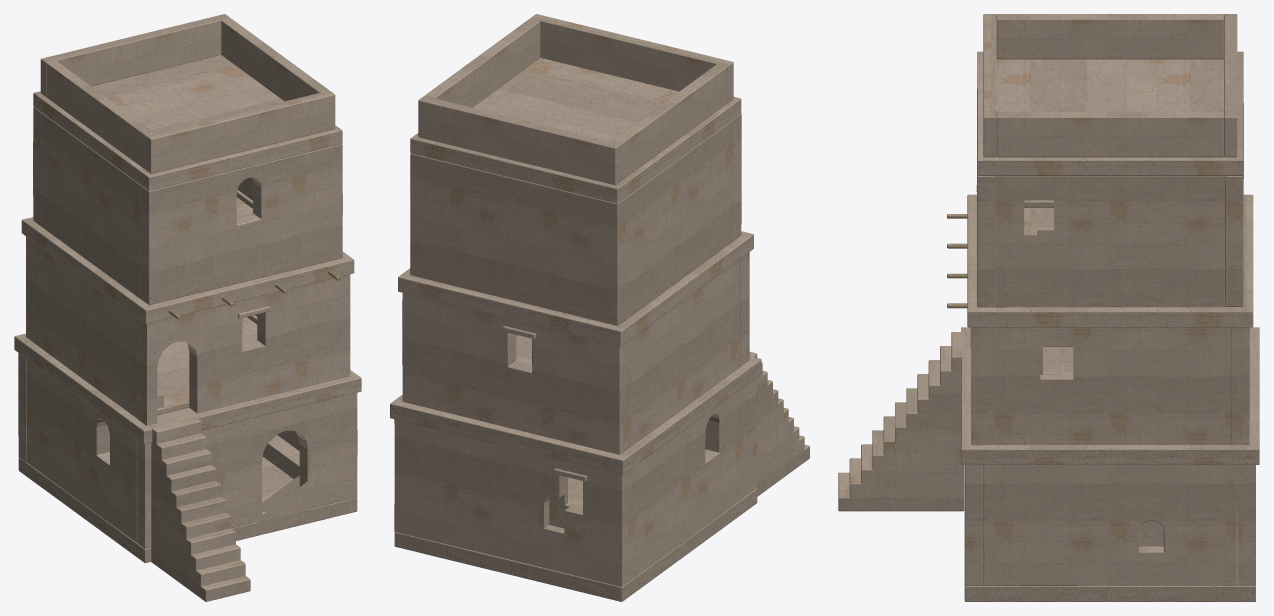
The model's file is tower_7.glb.
The picture shows the model from 3 angles, left to right: view 1: azimuth 30°, elevation 25°; view 2: azimuth 150°, elevation 25°; view 3: azimuth 270°, elevation 25°; orthographic projection. The views are drawn at different scales.
Parts seen in each view (by area): view 1: tower; view 2: tower; view 3: tower.
Part boxes in pixels (x1,y1,x2,y2): tower: (14,14,361,601); tower: (390,14,809,601); tower: (838,14,1259,601).
Size of the model in its own units: 6.52 by 11.86 by 9.49.
Materials: 3 (3 with a texture image).
